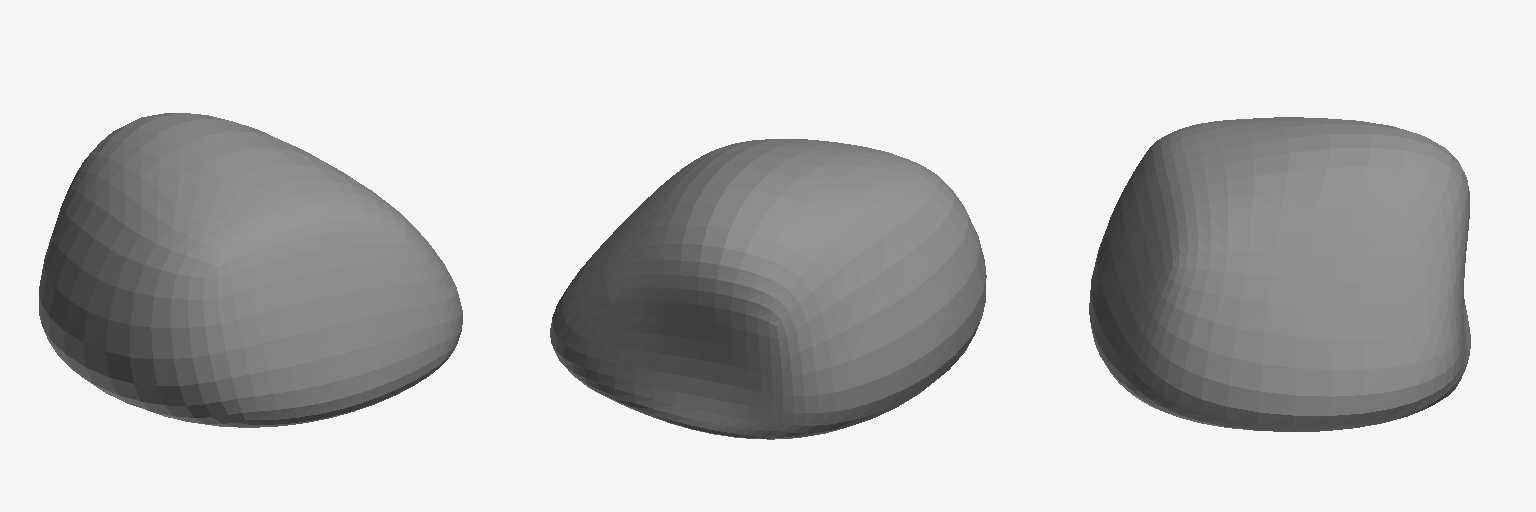
File: Stone.obj
3 views of the same model, side by side, from view 1: azimuth 30°, elevation 25°; view 2: azimuth 150°, elevation 25°; view 3: azimuth 270°, elevation 25° (orthographic).
Parts seen in each view (by area): view 1: Stone; view 2: Stone; view 3: Stone.
Boxes of the visible parts, x1,y1,x2,y2 form: Stone: [39, 113, 462, 427]; Stone: [550, 139, 986, 439]; Stone: [1089, 117, 1470, 431].
Size of the model in its own units: 9.91 by 5.7 by 9.08.